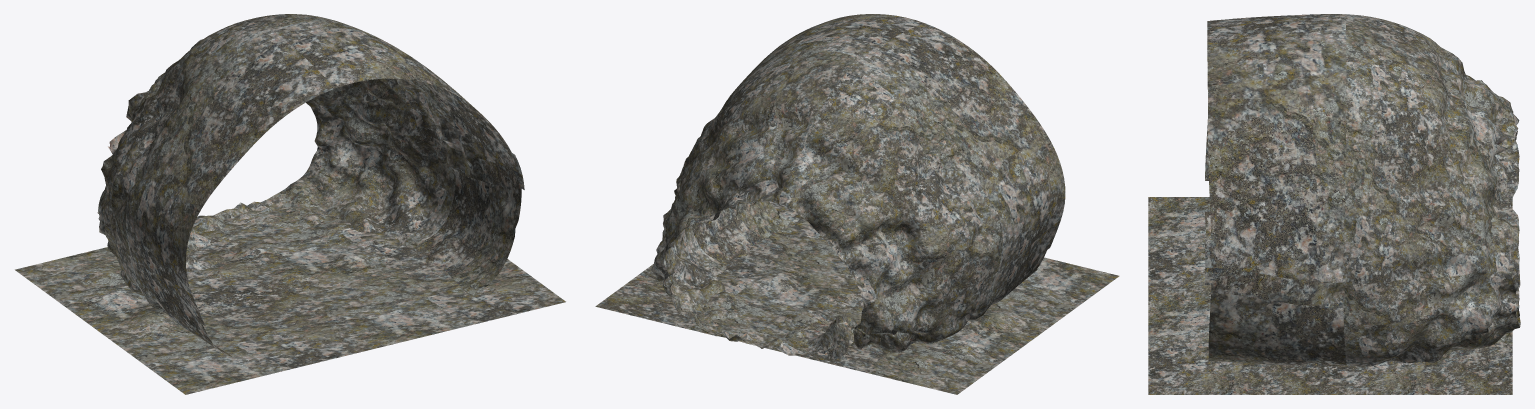
File: cave seperate.FBX
3 renders of one model, left to right at view 1: azimuth 30°, elevation 25°; view 2: azimuth 150°, elevation 25°; view 3: azimuth 270°, elevation 25°, orthographic. The views are drawn at different scales.
Parts seen in each view (by area): view 1: Capsule004, Plane002; view 2: Capsule004, Plane002; view 3: Capsule004, Plane002.
Part boxes in pixels (<box>): Capsule004: <box>97,14,524,356</box>; Plane002: <box>15,206,565,394</box>; Capsule004: <box>650,14,1065,359</box>; Plane002: <box>595,201,1119,394</box>; Capsule004: <box>1205,14,1520,366</box>; Plane002: <box>1148,197,1512,394</box>.
Size of the model in its own units: 584 by 398 by 465.
Materials: 1 (1 with a texture image).
